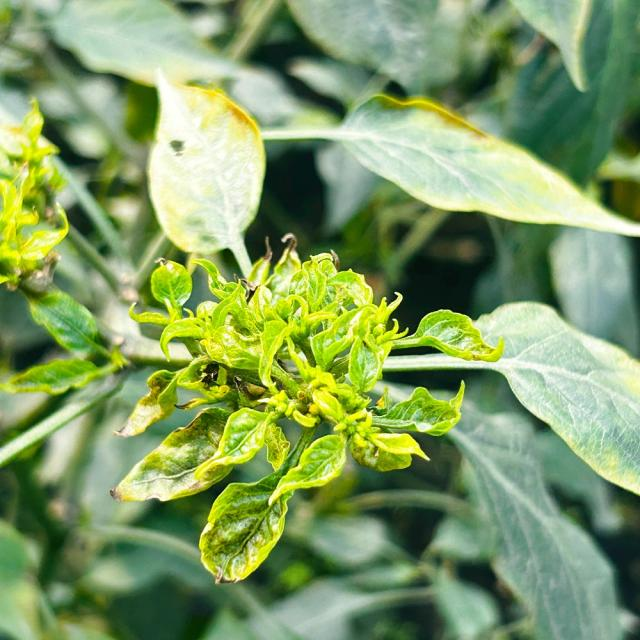Chilli_Leaf_Curl: (1, 2, 638, 636), (110, 236, 503, 584), (378, 299, 639, 497), (334, 91, 639, 238), (145, 68, 267, 268), (0, 96, 70, 292)
